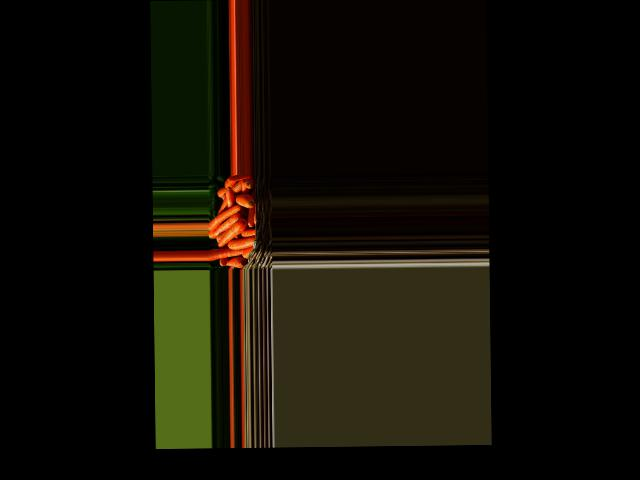carrot: (244, 178, 255, 188)
